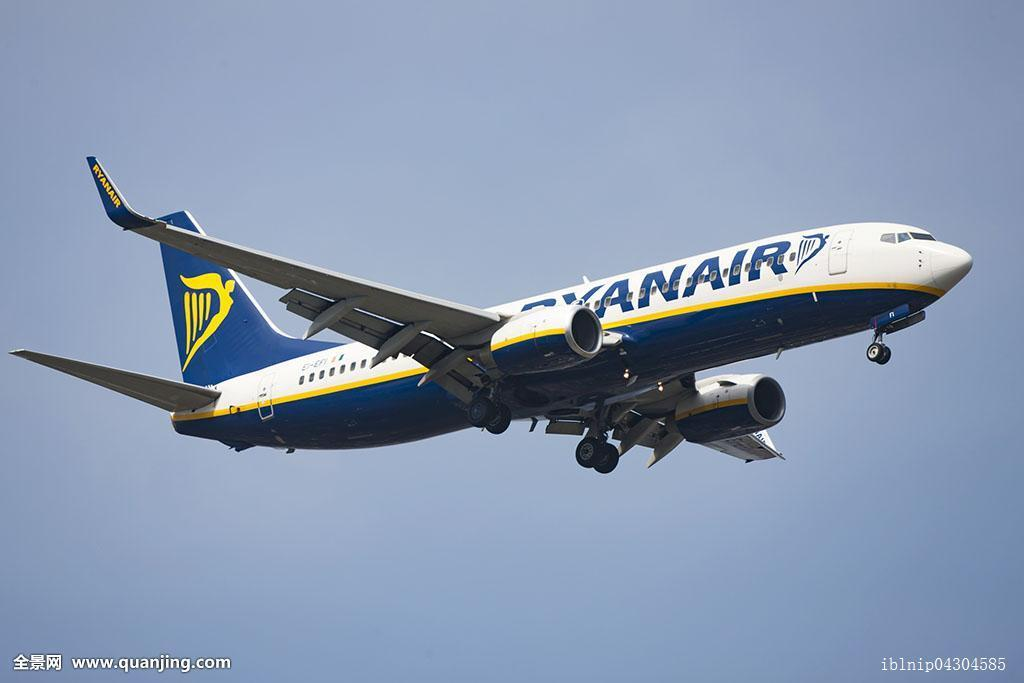airplane: (10, 150, 979, 467)
